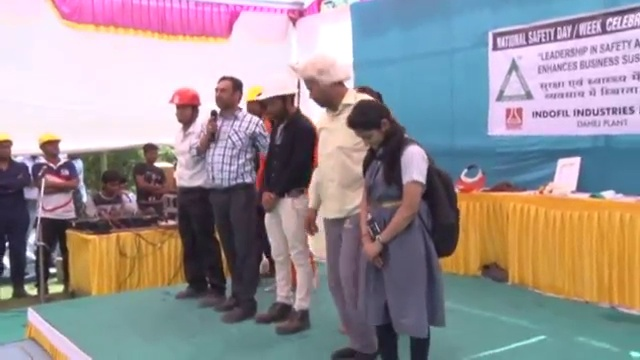helmet: (256, 74, 302, 107), (166, 80, 203, 112), (37, 134, 62, 148), (0, 132, 13, 146)
helmet_off: (338, 91, 394, 154), (297, 51, 348, 102), (207, 75, 245, 117), (95, 169, 123, 198), (137, 144, 159, 169)
helmet_on: (257, 76, 298, 126), (163, 83, 203, 131), (37, 134, 62, 163), (0, 132, 13, 162)
person: (339, 92, 466, 359), (303, 43, 382, 345), (191, 75, 267, 326), (255, 73, 324, 333), (163, 83, 225, 311), (27, 134, 86, 302), (0, 132, 32, 305), (82, 167, 142, 231), (132, 139, 173, 224)
